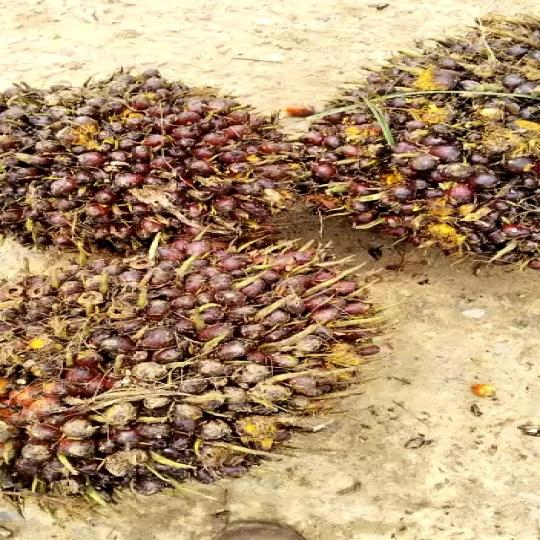kurang masak: (0, 242, 379, 508), (297, 11, 540, 271), (0, 64, 301, 241)
